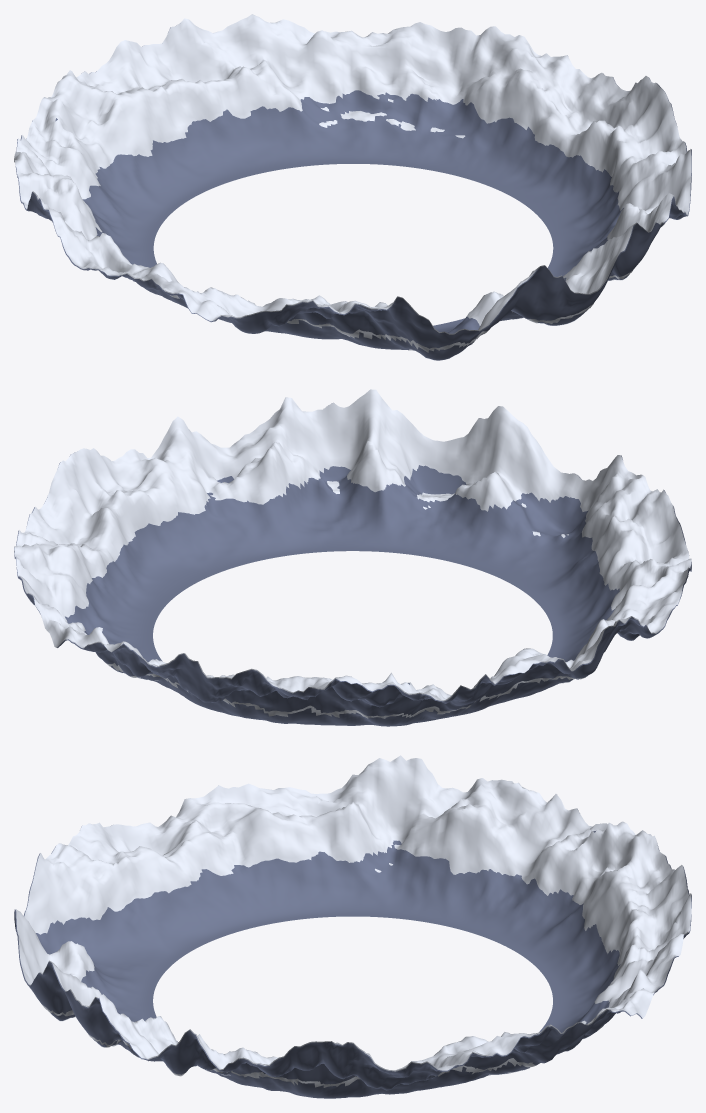
Rendered from Montanas_v2.glb.
3 renders of one model, top to bottom at view 1: azimuth 30°, elevation 25°; view 2: azimuth 150°, elevation 25°; view 3: azimuth 270°, elevation 25°, orthographic.
Parts seen in each view (by area): view 1: Montanas_v2; view 2: Montanas_v2; view 3: Montanas_v2.
Part boxes in pixels (box(x1,y1,x2,y2)): Montanas_v2: box(14, 14, 691, 360); Montanas_v2: box(14, 389, 691, 726); Montanas_v2: box(14, 755, 691, 1098).
Size of the model in its own units: 400 by 69.36 by 400.
